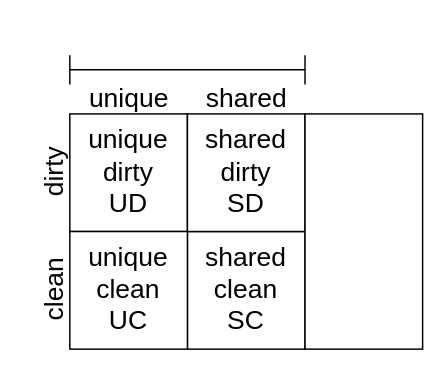
Image size: 448x375. Some labels were removed from this diagram. Each missing label, with the box of its shape:
invalid: (304, 112, 423, 349)
valid: (68, 54, 305, 85)
